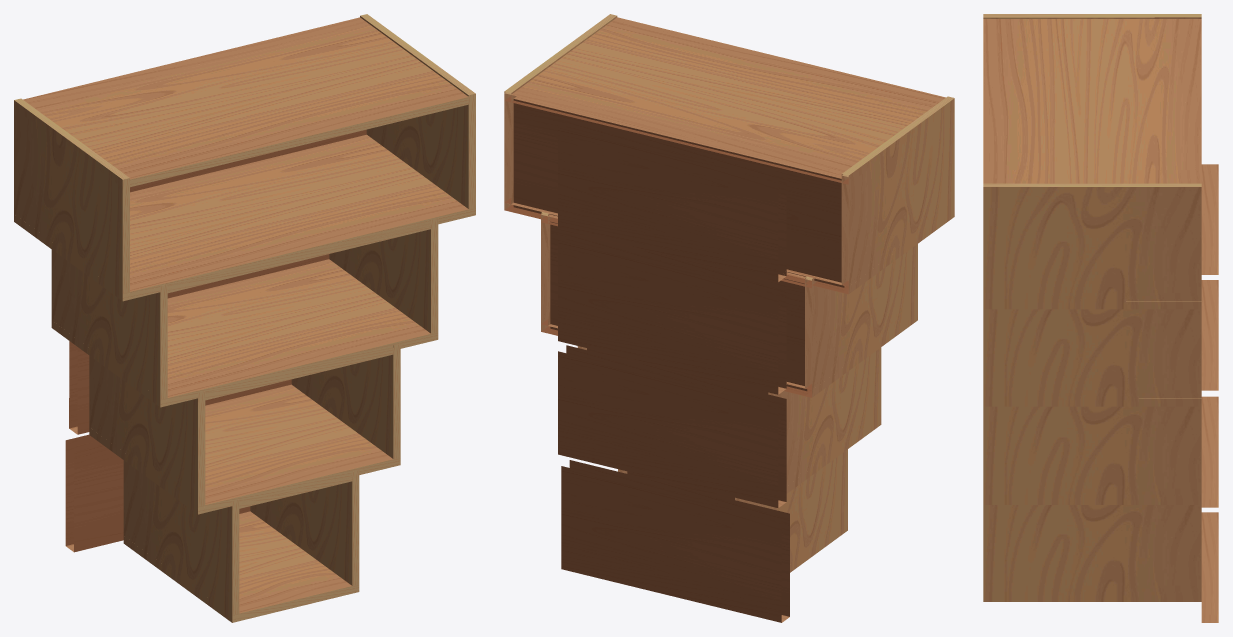
Rendered from layout_upsideDownTriangle.fbx.
3 views of the same model, side by side, from view 1: azimuth 30°, elevation 25°; view 2: azimuth 150°, elevation 25°; view 3: azimuth 270°, elevation 25° (orthographic). The views are drawn at different scales.
Parts seen in each view (by area): view 1: Shelf-TM-00 3, Shelf-BM-00 3, Shelf-BM-00 1, Shelf-BM-00, Shelf-CL-01 3, Shelf-CL-01 2, Shelf-CL-01, Shelf-CL-01 1, Shelf-CR-01 3, Shelf-BM-00 2, Shelf-CR-01 1, Shelf-CR-01 2 (+12 smaller); view 2: Shelf-TM-00 3, Shelf-Back-00 (1) 2, Shelf-Back-00 (1) 3, Shelf-Back-00 (1) 1, Shelf-Back-00 (1), Shelf-CL-01 3, Shelf-Back-00 3, Shelf-CL-01 1, Shelf-CL-01, Shelf-CL-01 2, Shelf-Back-00 1, Shelf-CR-01 3 (+5 smaller); view 3: Shelf-TM-00 3, Shelf-CR-01 3, Shelf-CR-01, Shelf-CR-01 1, Shelf-CR-01 2, Shelf-Back-00 (1), Shelf-Back-00 (1) 1, Shelf-Back-00 (1) 2, Shelf-Back-00 (1) 3, Shelf-CR-00 3, Shelf-CR-00 1, Shelf-CR-00 (+2 smaller).
Part boxes in pixels (x1,y1,x2,y2): Shelf-TM-00 3: (23,17,468,187); Shelf-BM-00 3: (130,134,468,299); Shelf-BM-00 1: (167,259,430,405); Shelf-BM-00: (205,384,393,512); Shelf-CL-01 3: (14,98,129,293); Shelf-CL-01 2: (123,460,239,615); Shelf-CL-01: (89,356,205,506); Shelf-CL-01 1: (51,249,167,399); Shelf-CR-01 3: (360,14,475,208); Shelf-BM-00 2: (239,511,352,620); Shelf-CR-01 1: (329,218,438,333); Shelf-CR-01 2: (250,470,359,585); Shelf-TM-00 3: (511,17,945,182); Shelf-Back-00 (1) 2: (561,460,789,622); Shelf-Back-00 (1) 3: (558,119,786,282); Shelf-Back-00 (1) 1: (558,232,786,394); Shelf-Back-00 (1): (558,345,786,508); Shelf-CL-01 3: (841,96,954,286); Shelf-Back-00 3: (513,96,844,287); Shelf-CL-01 1: (805,244,917,390); Shelf-CL-01: (768,347,881,485); Shelf-CL-01 2: (735,449,847,564); Shelf-Back-00 1: (550,221,807,391); Shelf-CR-01 3: (504,14,617,204); Shelf-TM-00 3: (983,19,1201,183); Shelf-CR-01 3: (983,183,1201,301); Shelf-CR-01: (983,406,1201,496); Shelf-CR-01 1: (983,309,1201,398); Shelf-CR-01 2: (983,505,1201,593); Shelf-Back-00 (1): (1201,396,1218,507); Shelf-Back-00 (1) 1: (1201,280,1218,390); Shelf-Back-00 (1) 2: (1201,512,1218,622); Shelf-Back-00 (1) 3: (1201,164,1218,274); Shelf-CR-00 3: (983,301,1201,309); Shelf-CR-00 1: (983,398,1201,406); Shelf-CR-00: (983,497,1201,504).
Size of the model in its own units: 150 by 191 by 86.3.
